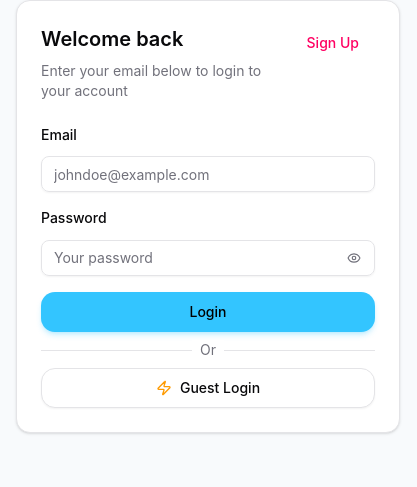
Test: LoginCard › shows validation error on guest login failure
The width and height of the screenshot is (417, 487).
Click the button "Guest Login" at [208, 388], box [41, 368, 375, 408]
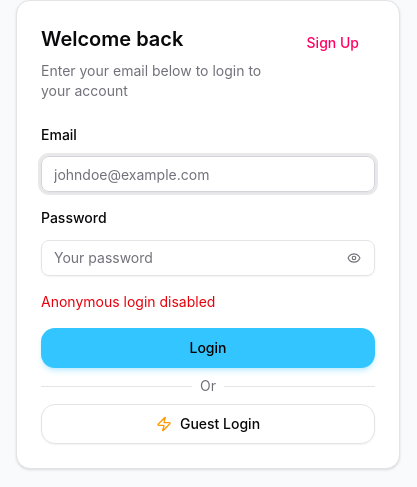
expect the text "Anonymous login disabled" is shown: met, box [41, 292, 215, 310]
